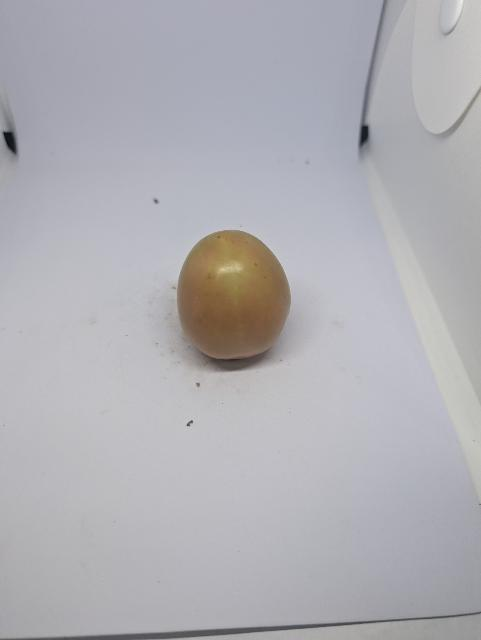turning: (178, 230, 291, 359)
